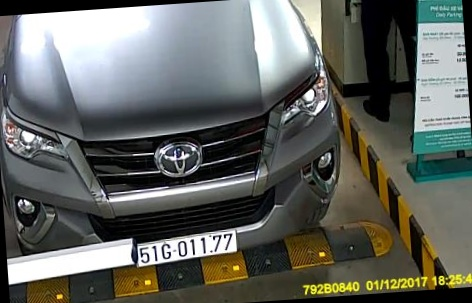plate: (135, 221, 253, 275)
